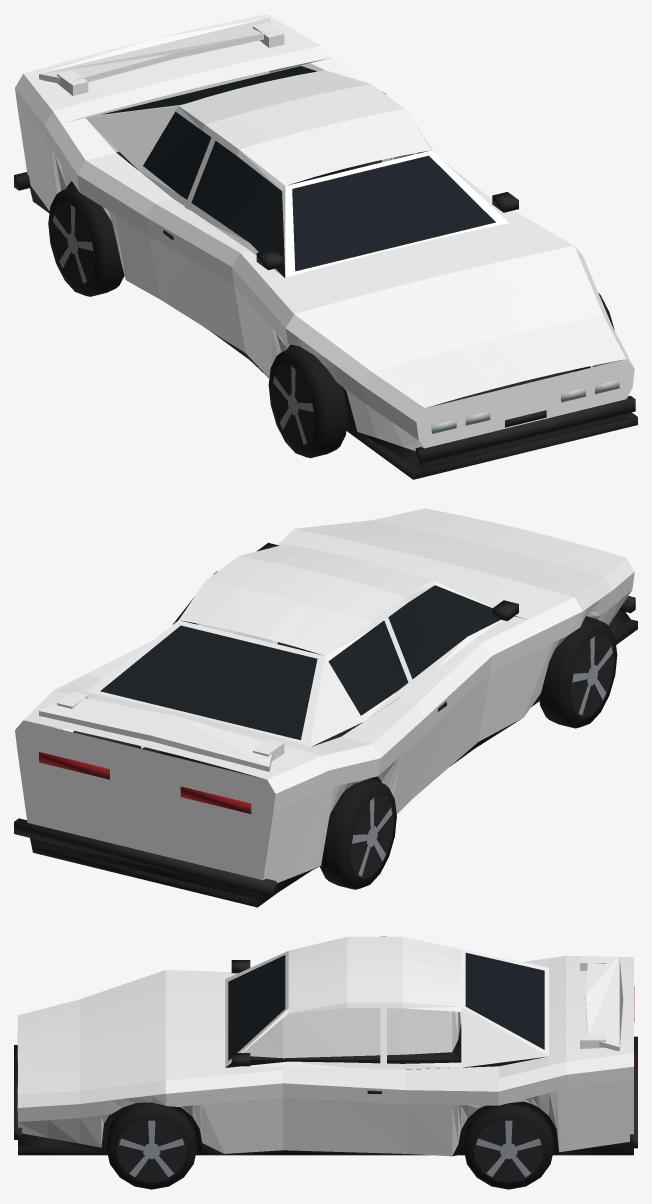
The model's file is mizuchi_alvorada.glb.
3 renders of one model, top to bottom at view 1: azimuth 30°, elevation 25°; view 2: azimuth 150°, elevation 25°; view 3: azimuth 270°, elevation 25°, orthographic. The views are drawn at different scales.
Parts seen in each view (by area): view 1: Body_Paint, Body_Details, Mount_FrontLeft_Wheel_Details, Mount_RearLeft_Wheel_Details; view 2: Body_Paint, Body_Details, Mount_RearLeft_Wheel_Details, Mount_FrontLeft_Wheel_Details; view 3: Body_Paint, Body_Details, Mount_FrontRight_Wheel_Details, Mount_RearRight_Wheel_Details.
Part boxes in pixels (left/top/right/bottom): Body_Paint: left=15, top=14, right=634, bottom=451; Body_Details: left=14, top=66, right=637, bottom=479; Mount_FrontLeft_Wheel_Details: left=268, top=346, right=347, bottom=458; Mount_RearLeft_Wheel_Details: left=48, top=186, right=124, bottom=296; Body_Paint: left=15, top=508, right=634, bottom=882; Body_Details: left=14, top=542, right=637, bottom=907; Mount_RearLeft_Wheel_Details: left=320, top=778, right=396, bottom=889; Mount_FrontLeft_Wheel_Details: left=539, top=616, right=617, bottom=728; Body_Paint: left=18, top=936, right=633, bottom=1156; Body_Details: left=14, top=952, right=637, bottom=1156; Mount_FrontRight_Wheel_Details: left=106, top=1102, right=197, bottom=1189; Mount_RearRight_Wheel_Details: left=463, top=1104, right=553, bottom=1189.
Bounding box in the file's own units: 1.97 × 1.27 × 4.34.
Materials: 2 (1 with a texture image).
